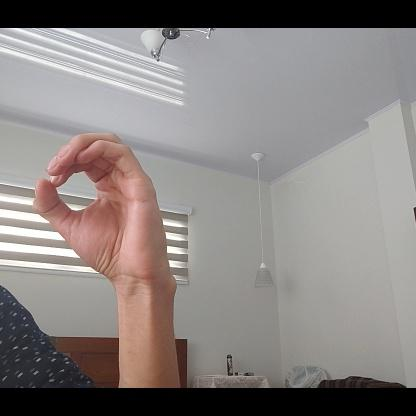O: (30, 128, 175, 283)
